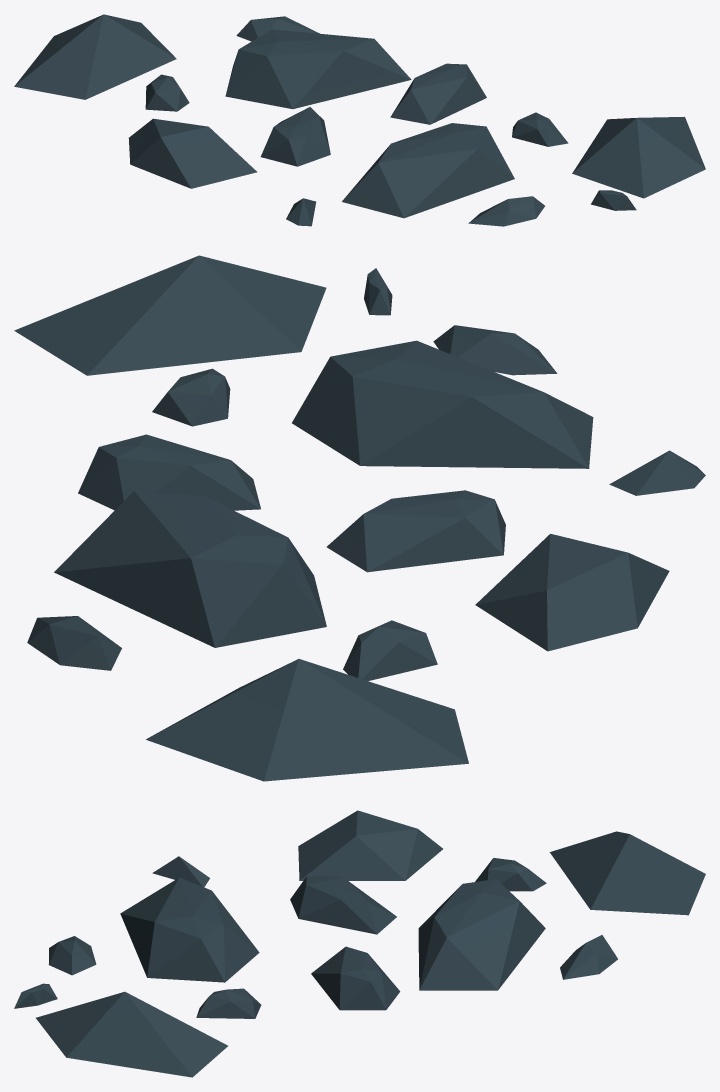
Rendered from Rubble_A.fbx.
3 renders of one model, top to bottom at view 1: azimuth 30°, elevation 25°; view 2: azimuth 150°, elevation 25°; view 3: azimuth 270°, elevation 25°, orthographic. The views are drawn at different scales.
Visible parts, largest first — view 1: Rubble_A; view 2: Rubble_A; view 3: Rubble_A.
Part boxes in pixels (bbox=[...]): Rubble_A: bbox=[14, 14, 705, 226]; Rubble_A: bbox=[14, 255, 705, 781]; Rubble_A: bbox=[14, 810, 705, 1077].
Bounding box in the file's own units: 62.95 × 5.64 × 74.77.
